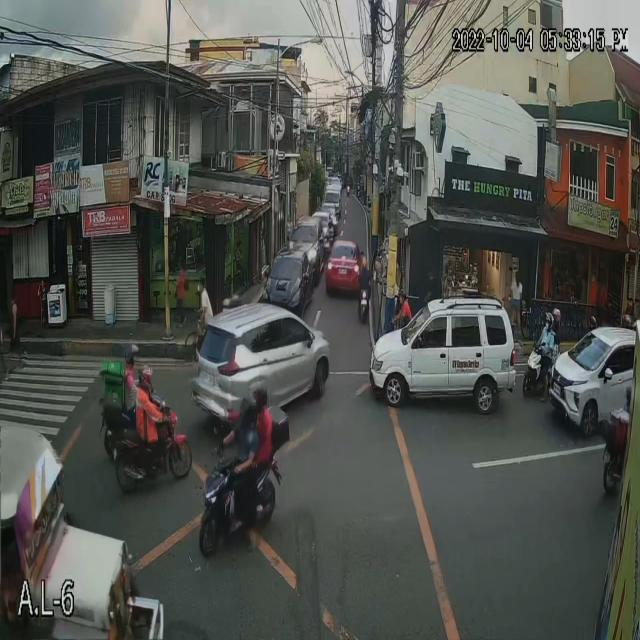Full-Faced: (248, 376, 268, 409), (236, 394, 254, 428), (138, 365, 154, 393), (585, 307, 597, 331), (549, 302, 561, 324)
Half-Faced: (538, 303, 552, 338), (124, 344, 142, 370)
